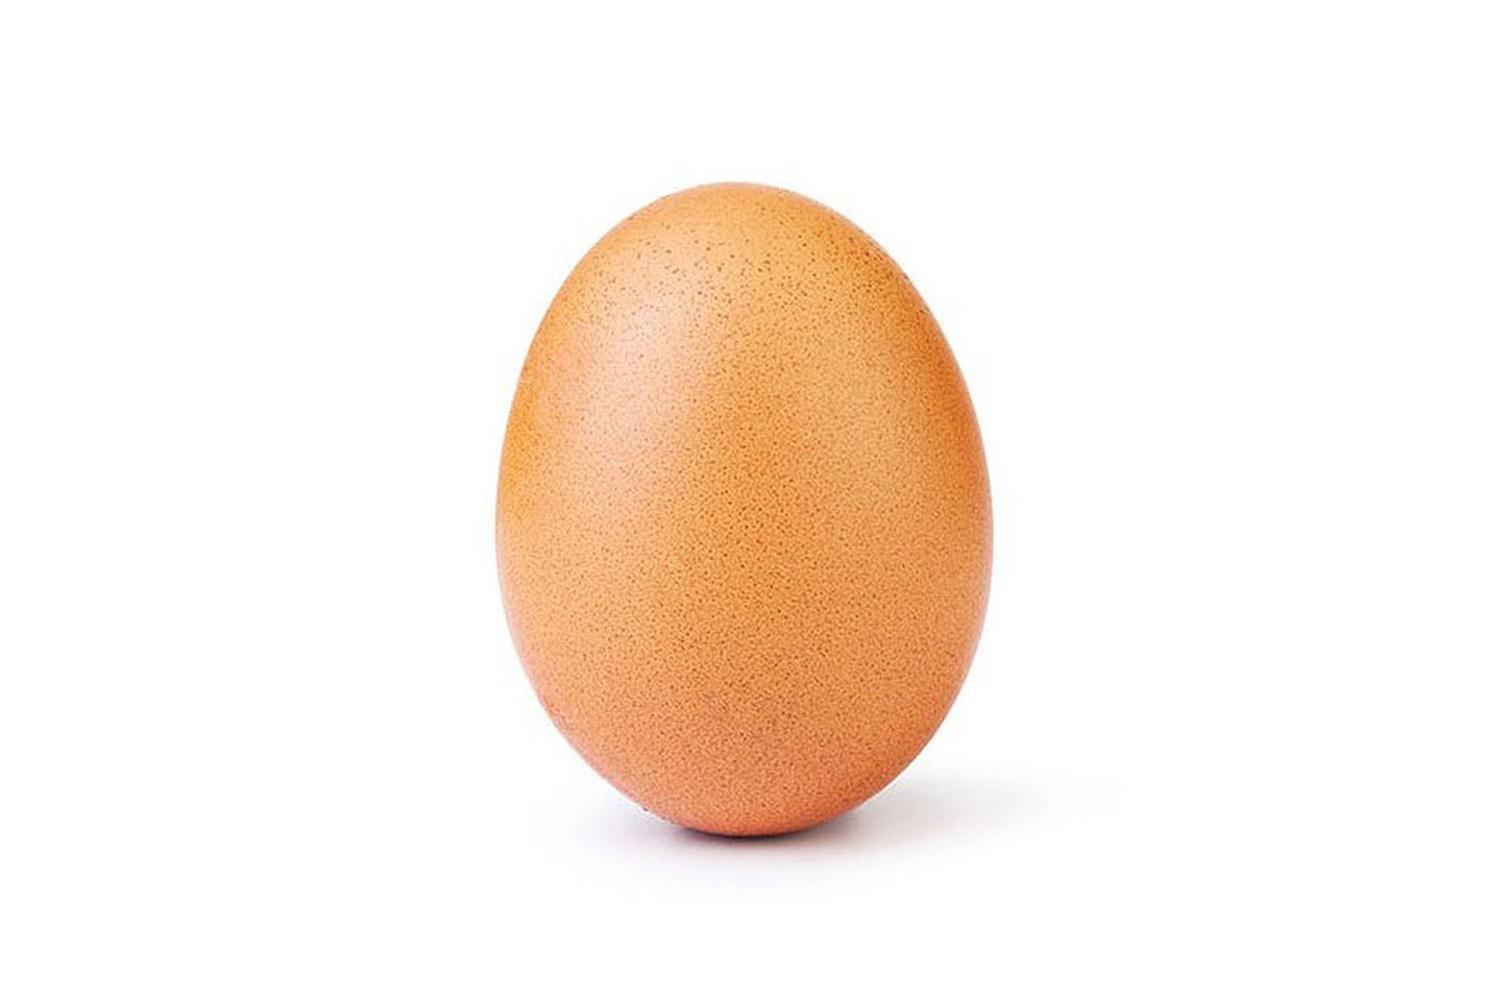egg: (489, 177, 1000, 842)
